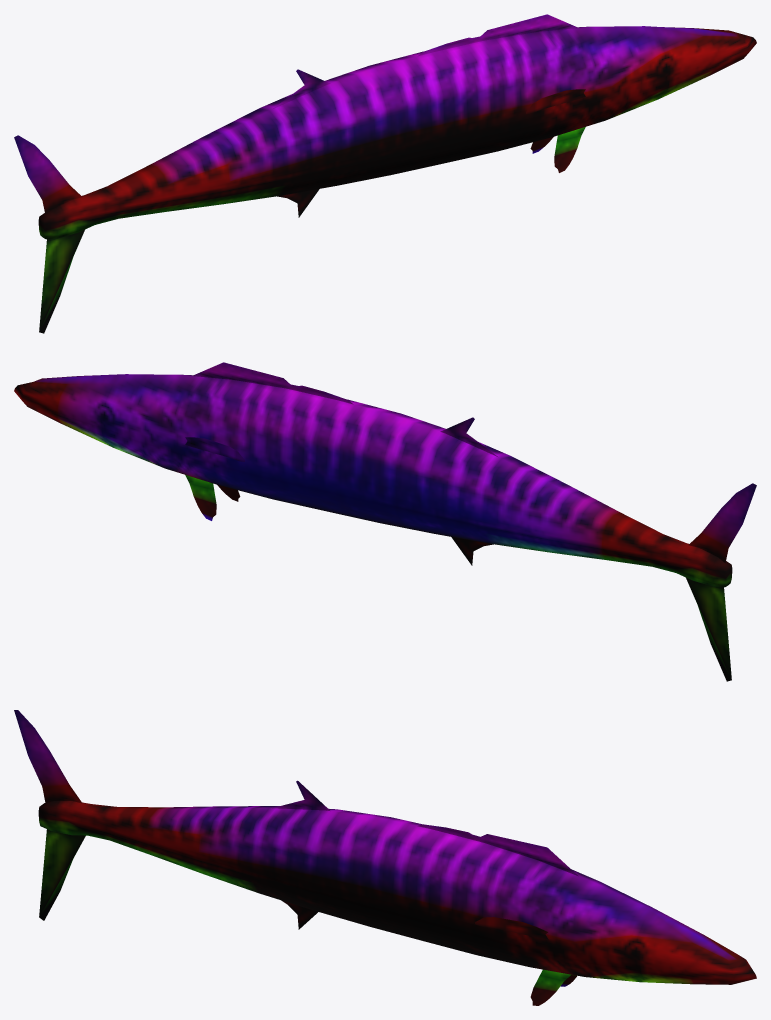
The model's file is wahoo.glb.
3 renders of one model, top to bottom at view 1: azimuth 30°, elevation 25°; view 2: azimuth 150°, elevation 25°; view 3: azimuth 330°, elevation 25°, orthographic.
Parts seen in each view (by area): view 1: Wahoo; view 2: Wahoo; view 3: Wahoo.
Boxes of the visible parts, x1,y1,x2,y2 form: Wahoo: [14, 14, 756, 333]; Wahoo: [14, 362, 756, 681]; Wahoo: [14, 710, 756, 1005].
Size of the model in its own units: 1 by 0.2633 by 0.1189.
1 material, 1 textured.
